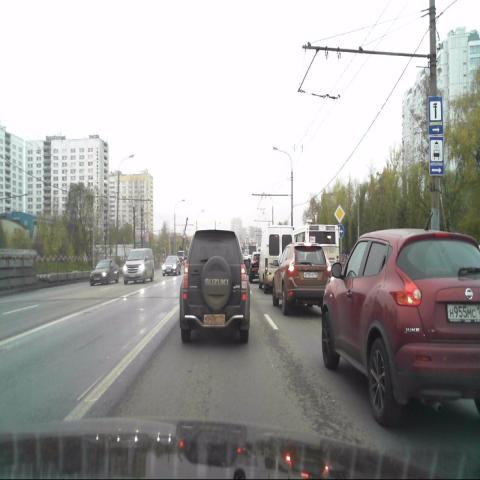7_4: (428, 96, 444, 135)
